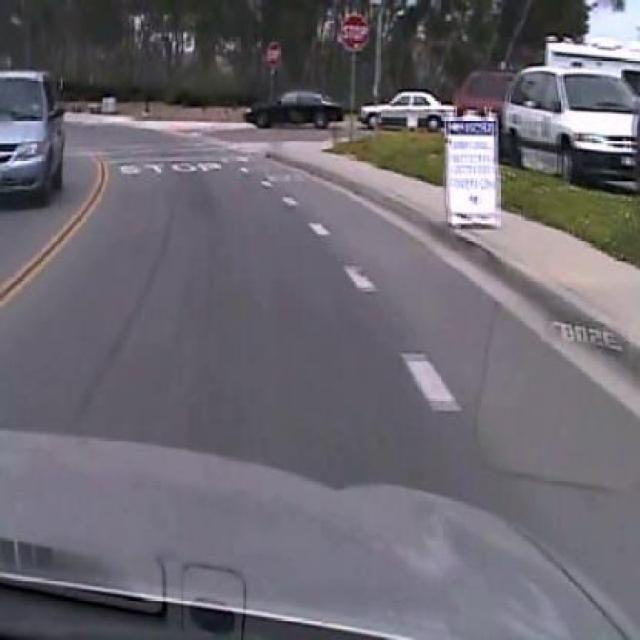stop: (340, 11, 369, 51), (266, 40, 282, 68)
